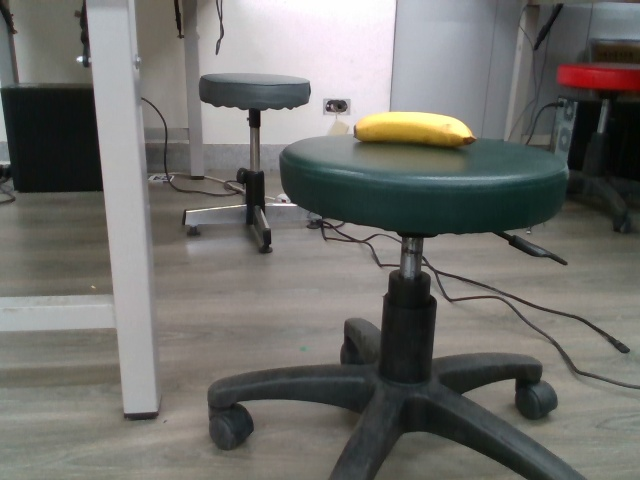banana: (352, 106, 478, 151)
